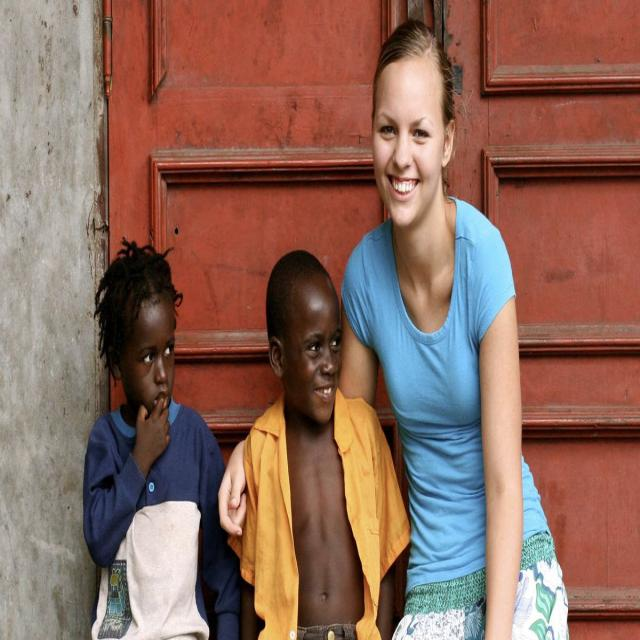body: (213, 17, 580, 639), (226, 248, 412, 640), (82, 234, 243, 640)
